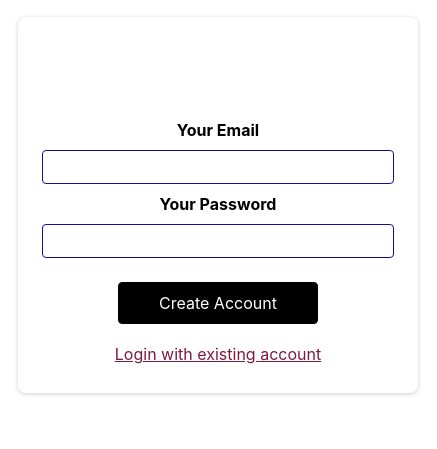
AuthForm › shows error for invalid password on signup
Type "test@example.com" into the field labelled "Your Email".
click(218, 167); type("test@example.com")  # box [42,150,394,184]
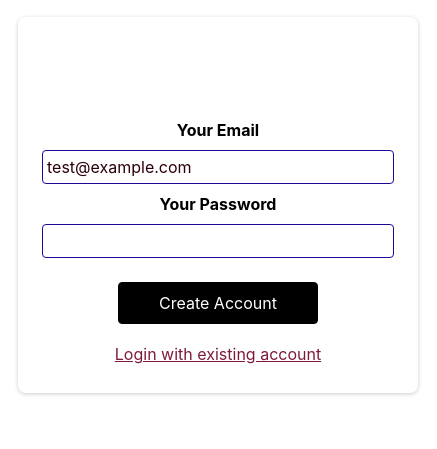
Type "short" into the password field labelled "Your Password".
click(218, 241); type("short")  # box [42,224,394,258]
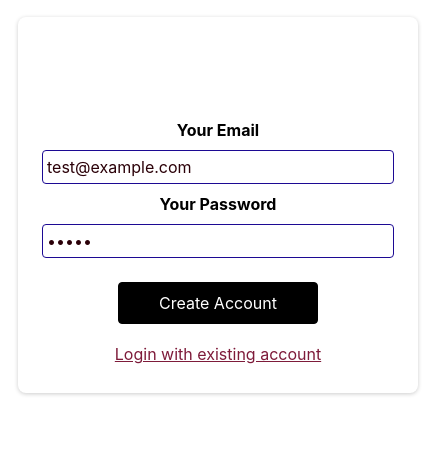
Click the button "Create Account".
click(218, 303)  # box [118,282,318,324]
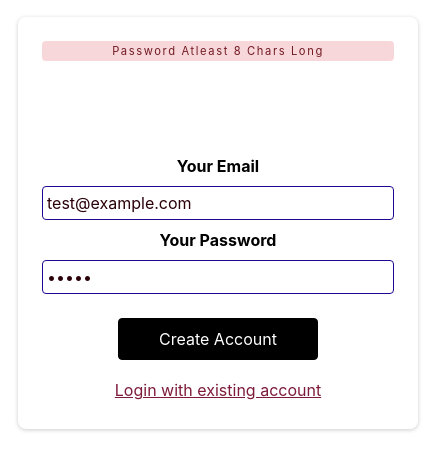
expect the text "Password atleast 8 chars long" is shown: met, box [42,41,394,61]
